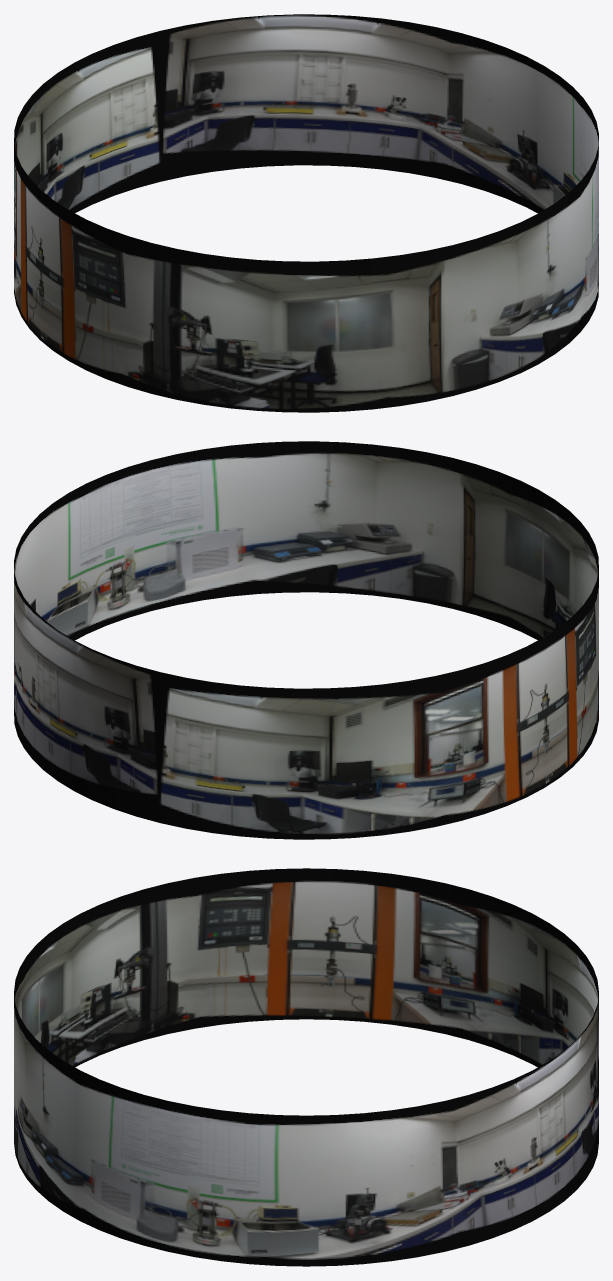
The model's file is SUSTRATOS 360 .fbx.
3 renders of one model, top to bottom at view 1: azimuth 30°, elevation 25°; view 2: azimuth 150°, elevation 25°; view 3: azimuth 270°, elevation 25°, orthographic.
Visible parts, largest first — view 1: Cylinder; view 2: Cylinder; view 3: Cylinder.
Boxes of the visible parts, left/top/right/bottom form: Cylinder: left=14, top=14, right=598, bottom=412; Cylinder: left=14, top=441, right=598, bottom=839; Cylinder: left=14, top=868, right=598, bottom=1266.
Bounding box in the file's own units: 6 × 1.71 × 6.
1 material, 1 textured.
